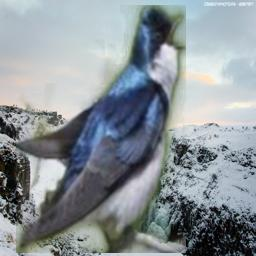Crow: (74, 146, 131, 208)
Swallow: (16, 5, 186, 253)
